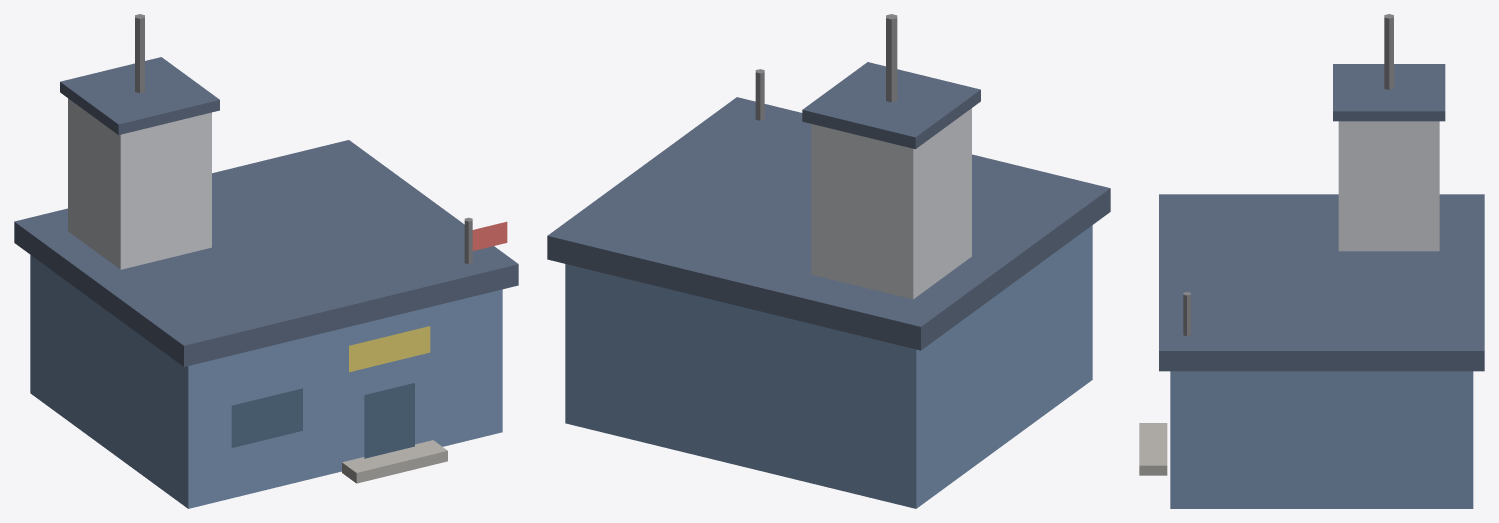
The model's file is small_police_station.glb.
3 views of the same model, side by side, from view 1: azimuth 30°, elevation 25°; view 2: azimuth 150°, elevation 25°; view 3: azimuth 270°, elevation 25° (orthographic). The views are drawn at different scales.
Visible parts, largest first — view 1: small_police_station; view 2: small_police_station; view 3: small_police_station.
Part boxes in pixels (left/top/right/bottom): small_police_station: left=14, top=14, right=518, bottom=508; small_police_station: left=547, top=14, right=1110, bottom=508; small_police_station: left=1139, top=14, right=1484, bottom=508.
Bounding box in the file's own units: 0.665 × 0.74 × 0.615.
